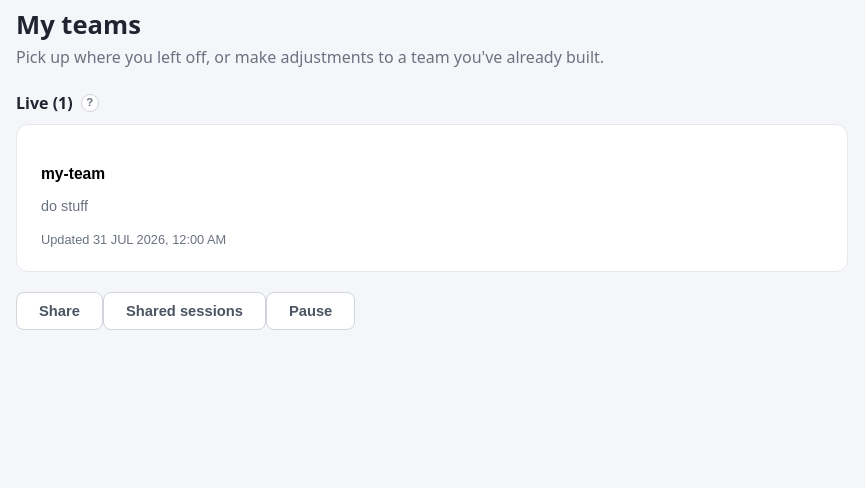
SessionsPage sharing audit › fetches and shows the audit view only after the toggle is clicked
The image size is (865, 488).
What coordinates should you click on to do the following:
click the button "Shared sessions"
I would click on:
 (184, 311)
Its box is x1=103 y1=292 x2=266 y2=330.
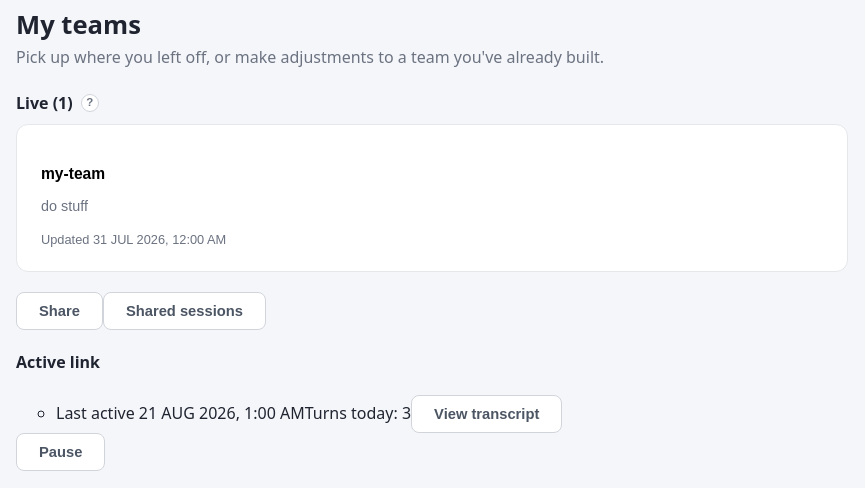
expect the text "Turns today: 3" is shown: met, box x1=305 y1=402 x2=411 y2=424
